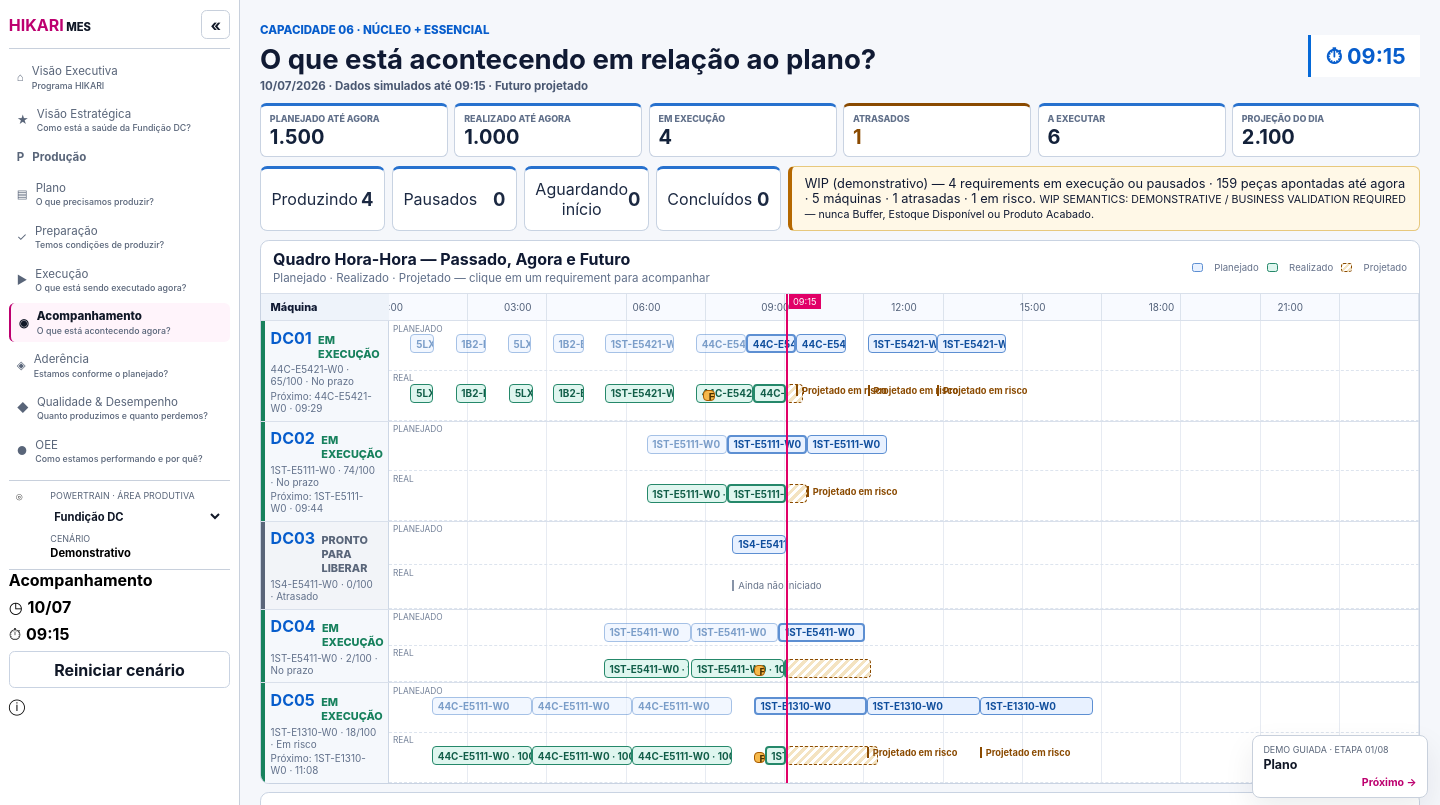
Test: DC05 setup-overrun Event delays the requirement start, visible end to end from the block to the modal, without double-counting the downtime already reflected in
Click the button that starts with "DC05" at (325, 733), box [261, 683, 389, 783]
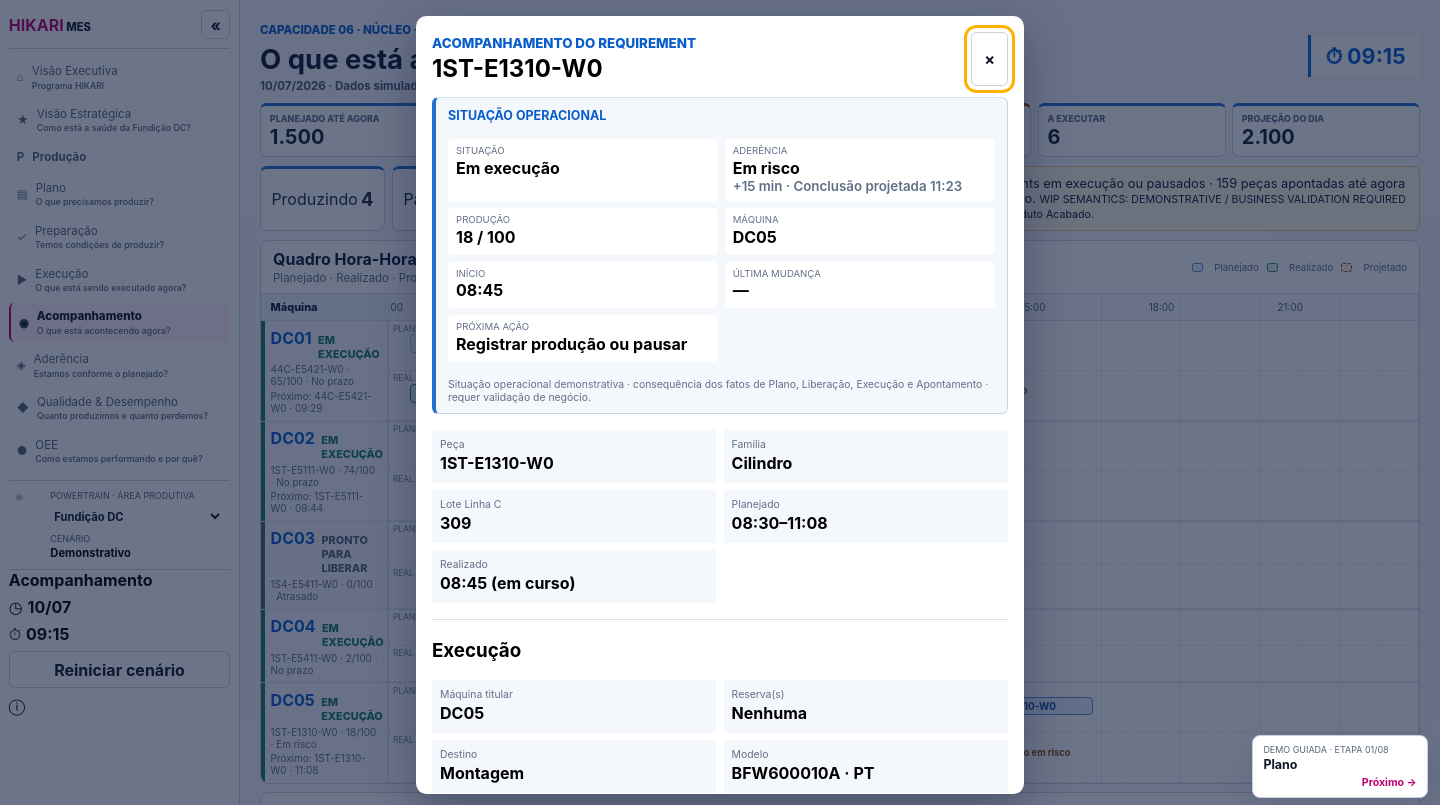
Now the dialog "1ST-E1310-W0" shows "Em risco", box [733, 158, 800, 178]
Now the dialog "1ST-E1310-W0" shows "Conclusão projetada 11:23", box [782, 178, 962, 194]
